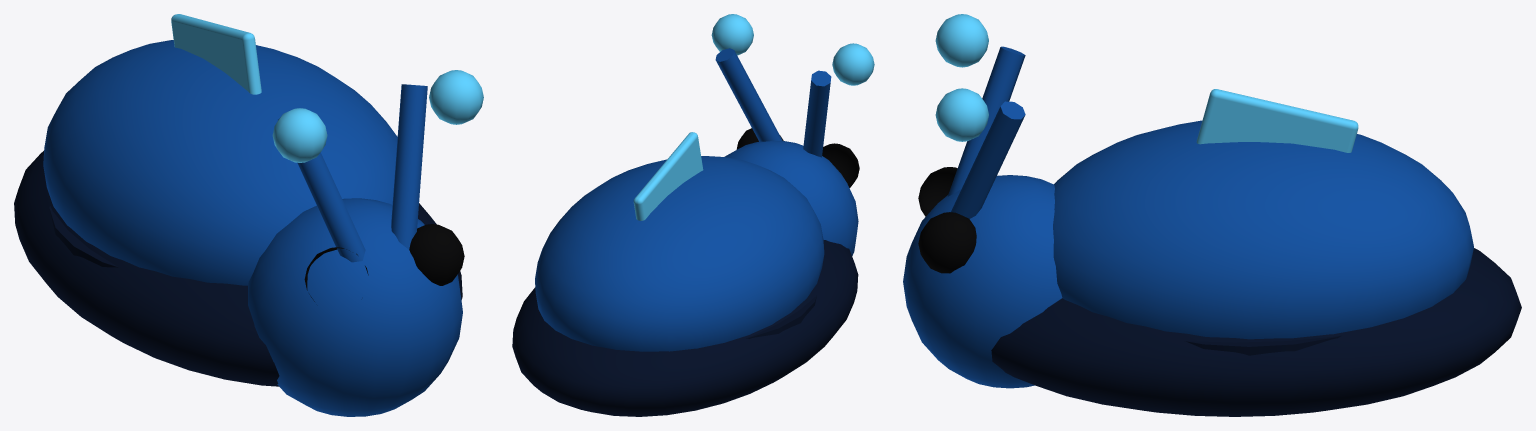
File: corriente.obj
The picture shows the model from 3 angles, left to right: view 1: azimuth 30°, elevation 25°; view 2: azimuth 150°, elevation 25°; view 3: azimuth 270°, elevation 25°; orthographic projection. The views are drawn at different scales.
Size of the model in its own units: 0.448 by 0.4234 by 0.7246.
